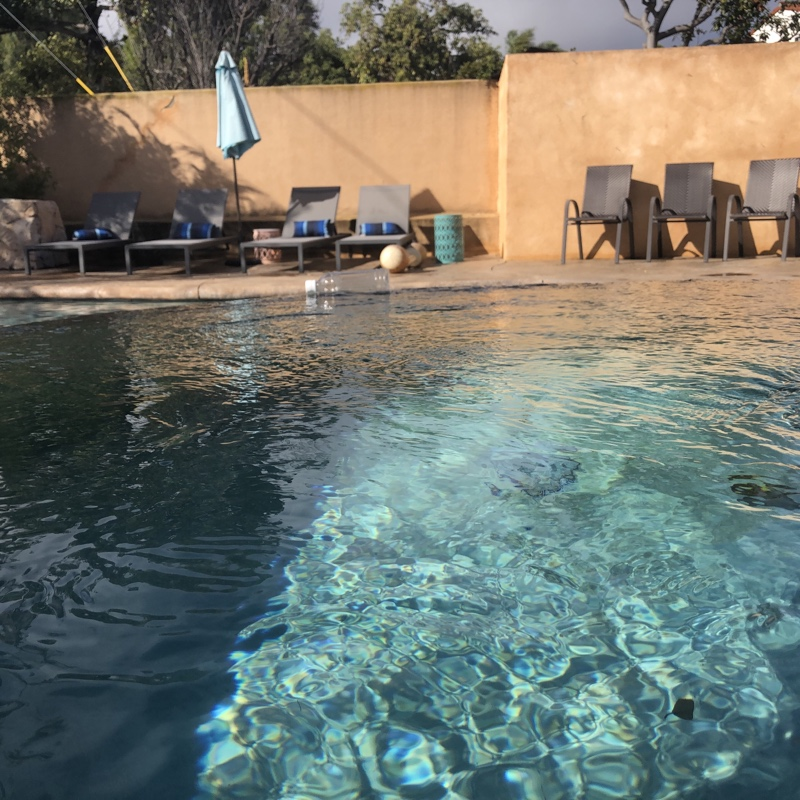Plastic Bottle: (302, 268, 392, 297)
